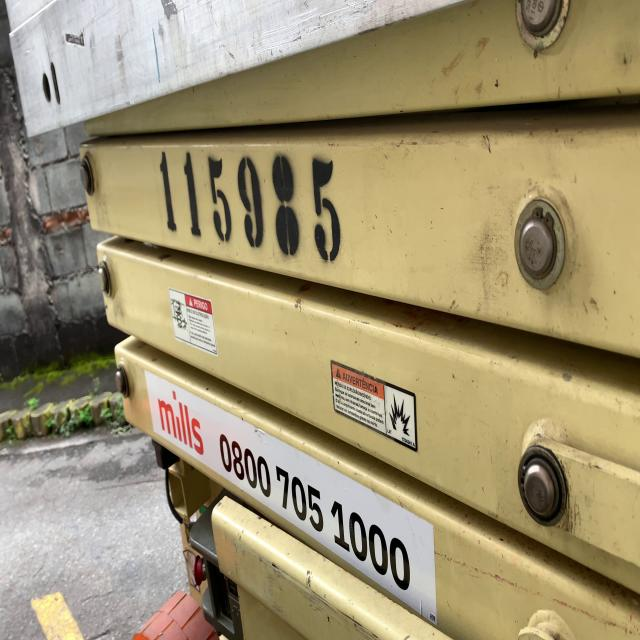Adesivo Longo: (143, 368, 439, 630)
